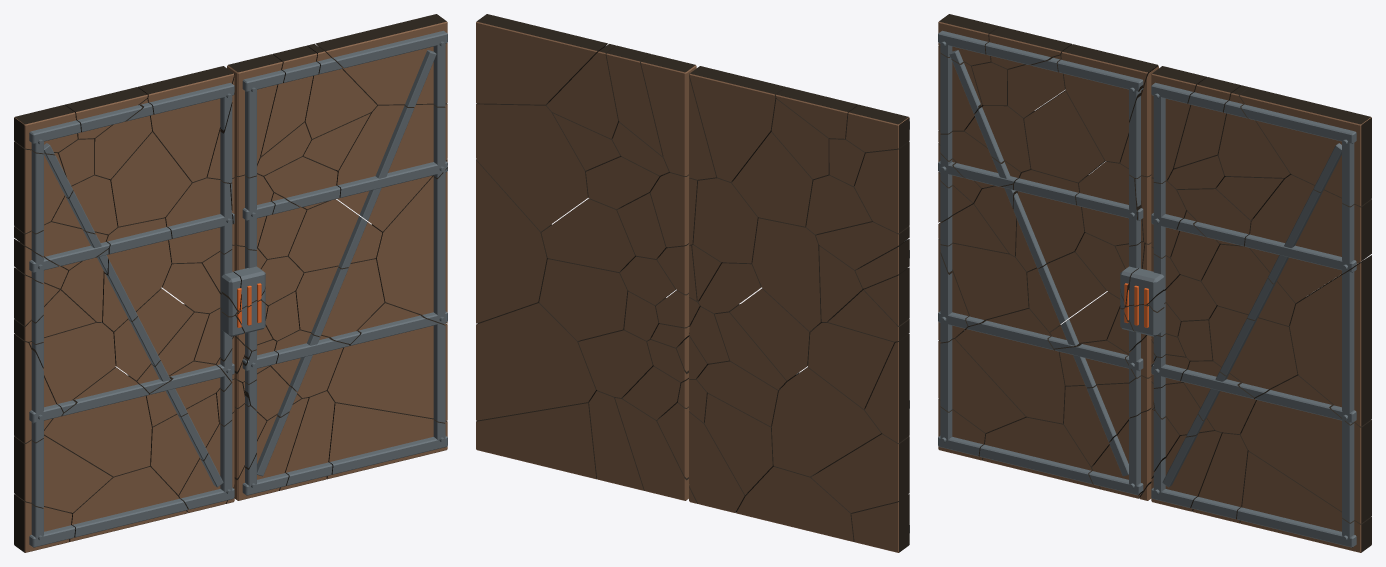
The model's file is SM_DoorCracked_02.fbx.
3 views of the same model, side by side, from view 1: azimuth 30°, elevation 25°; view 2: azimuth 150°, elevation 25°; view 3: azimuth 330°, elevation 25° (orthographic).
Parts seen in each view (by area): view 1: SM_DoorCracked_02; view 2: SM_DoorCracked_02; view 3: SM_DoorCracked_02.
Boxes of the visible parts, x1,y1,x2,y2 form: SM_DoorCracked_02: (14, 14, 447, 552); SM_DoorCracked_02: (476, 14, 909, 552); SM_DoorCracked_02: (938, 14, 1371, 552).
Size of the model in its own units: 343 by 35 by 332.
